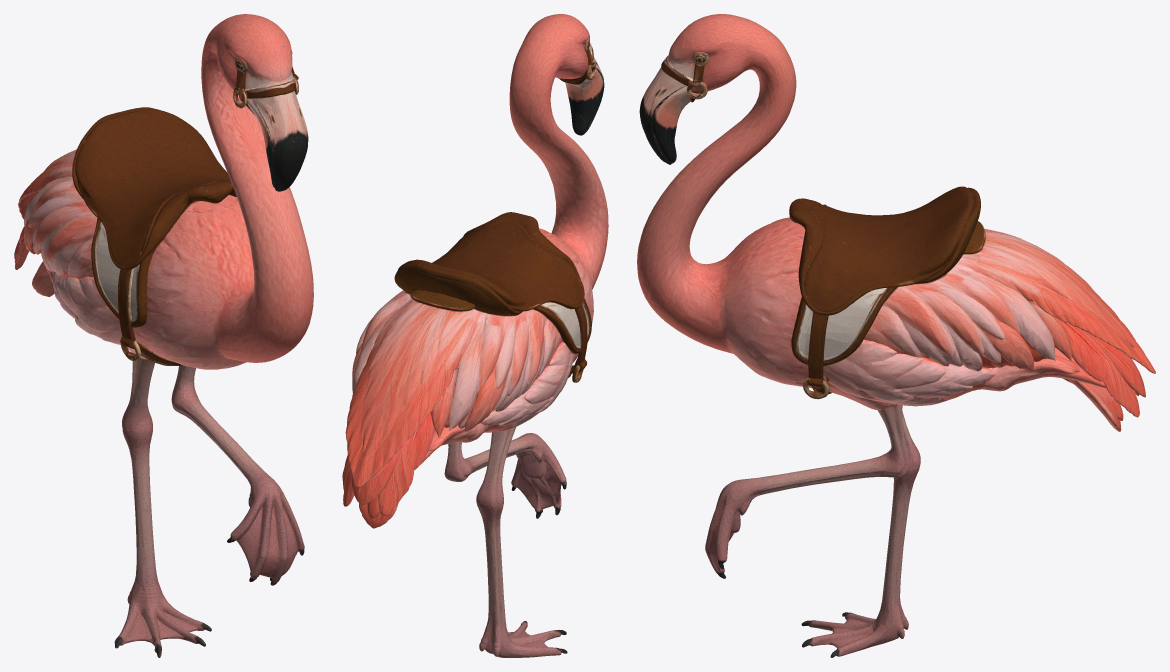
The model's file is flamingo.glb.
3 views of the same model, side by side, from view 1: azimuth 30°, elevation 25°; view 2: azimuth 150°, elevation 25°; view 3: azimuth 270°, elevation 25° (orthographic). The views are drawn at different scales.
Size of the model in its own units: 0.5644 by 1.9 by 1.41.
Materials: 1 (1 with a texture image).
